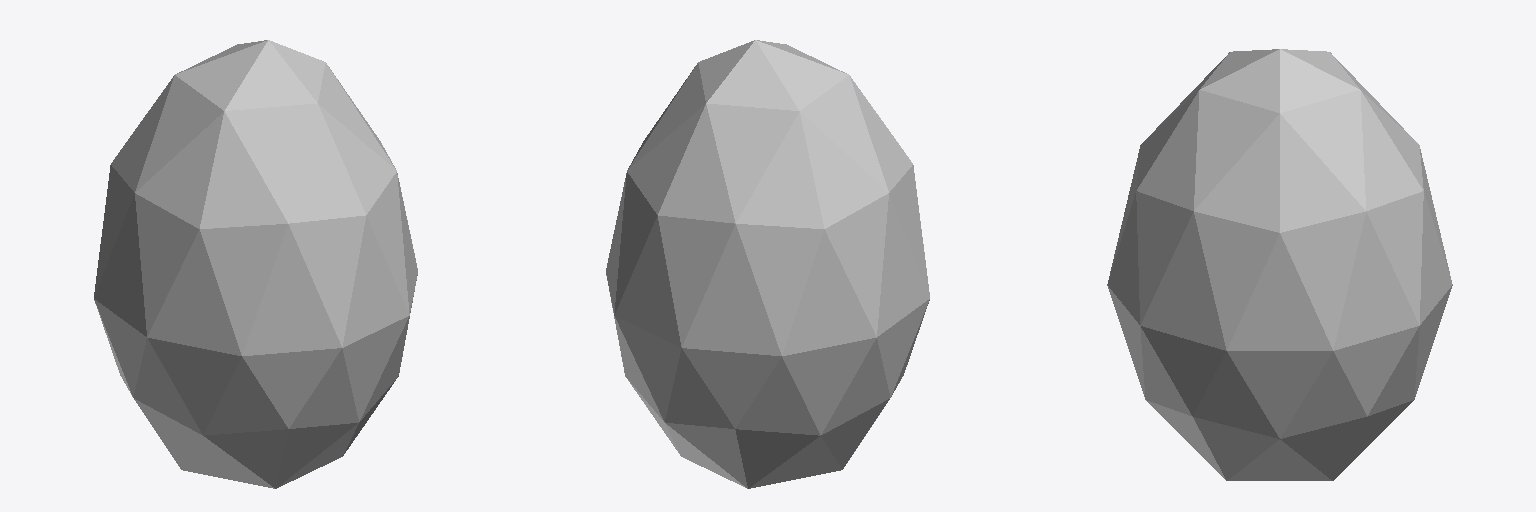
Rendered from egg.obj.
3 renders of one model, left to right at view 1: azimuth 30°, elevation 25°; view 2: azimuth 150°, elevation 25°; view 3: azimuth 270°, elevation 25°, orthographic.
Parts seen in each view (by area): view 1: Cube.002; view 2: Cube.002; view 3: Cube.002.
Part boxes in pixels (left/top/right/bottom): Cube.002: left=94, top=40, right=417, bottom=488; Cube.002: left=606, top=40, right=929, bottom=488; Cube.002: left=1107, top=49, right=1452, bottom=480.
Size of the model in its own units: 0.1004 by 0.1507 by 0.1107.